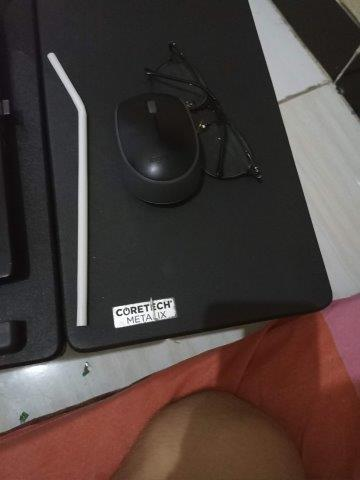sedotan: (47, 53, 88, 325)
